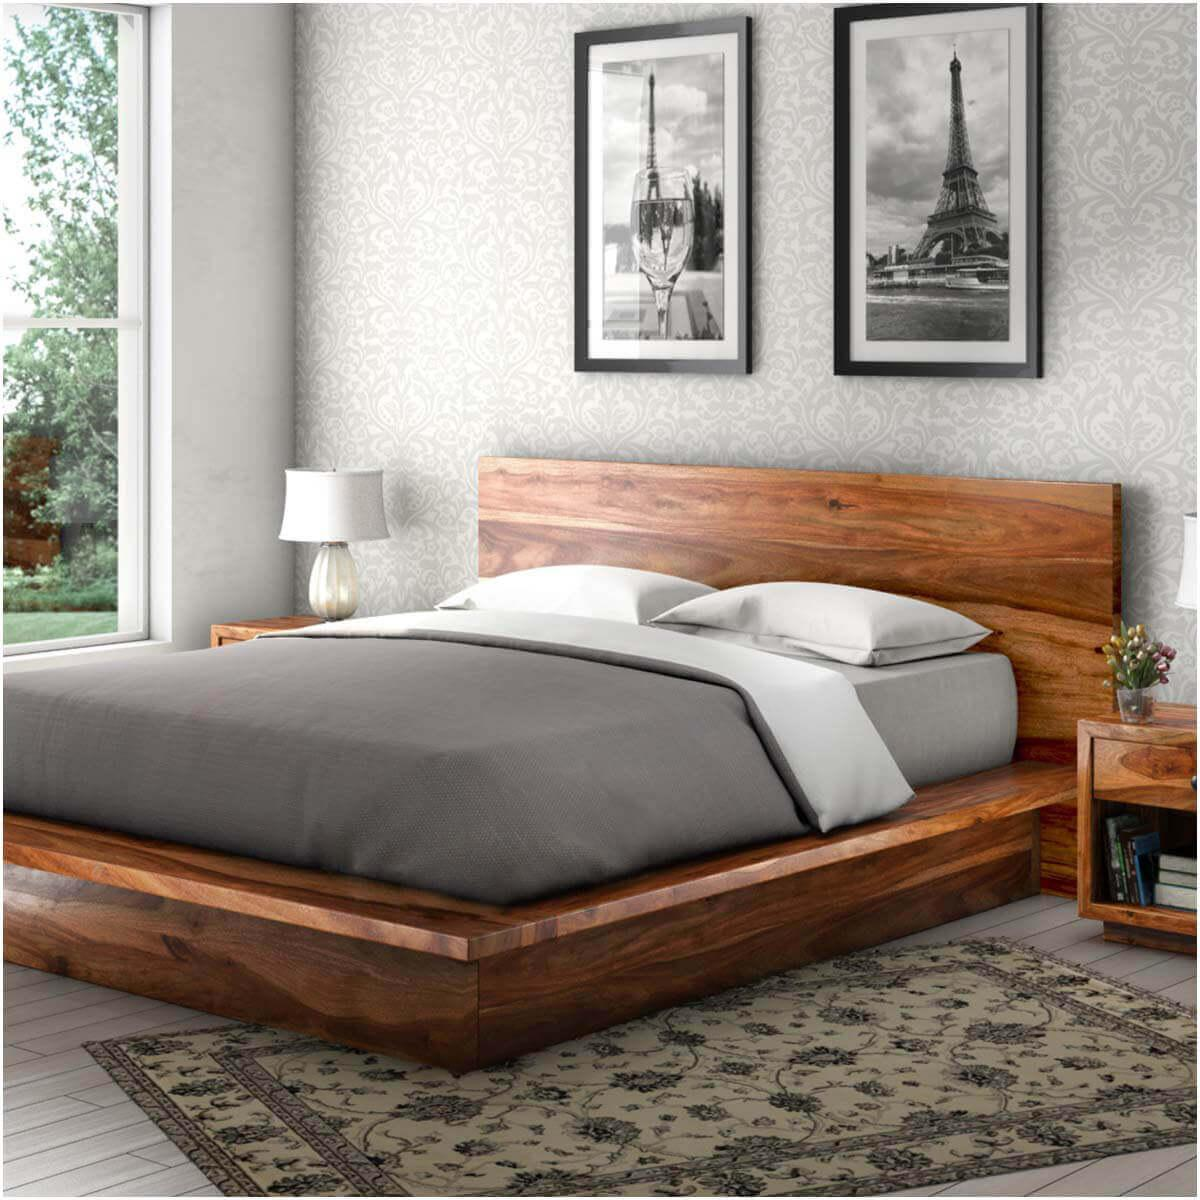bed: (22, 395, 1055, 978)
